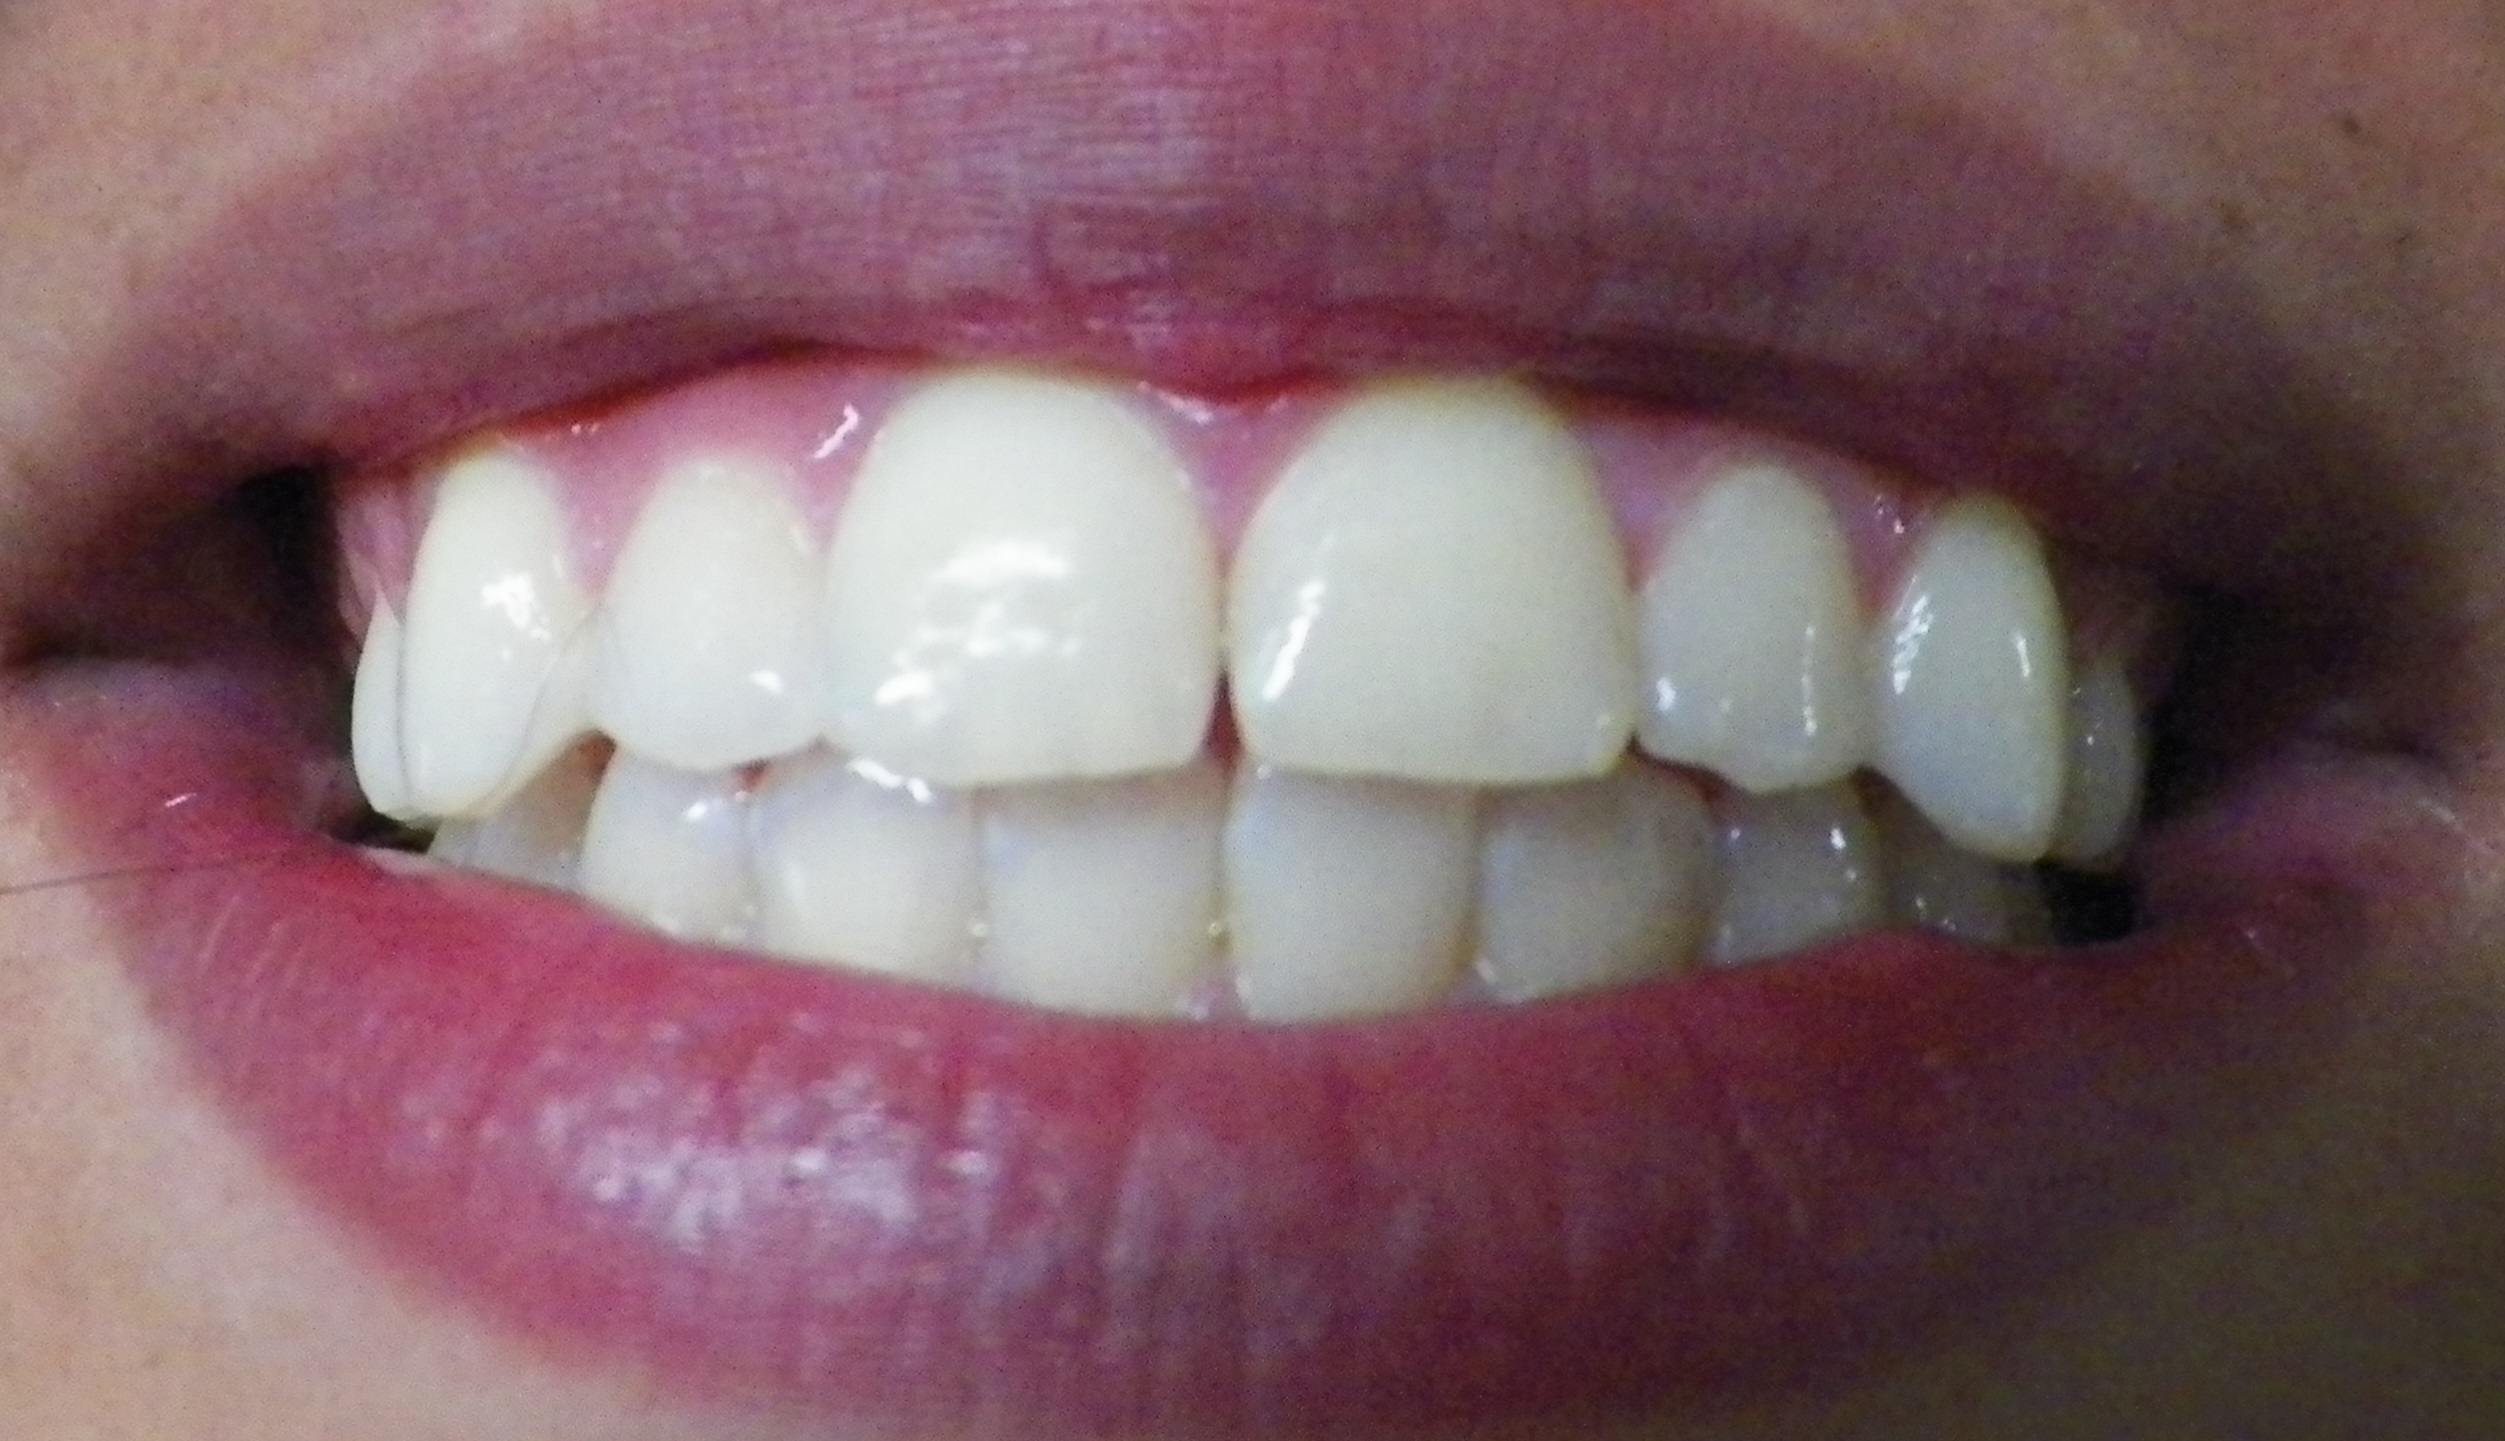boca: (325, 371, 2159, 1016)
